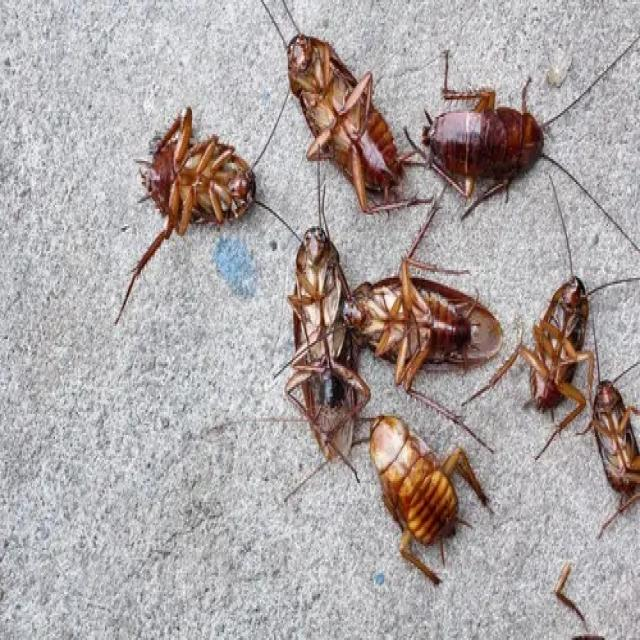Cockroach: (332, 243, 522, 428), (268, 4, 414, 226), (352, 408, 490, 592), (398, 69, 589, 195), (274, 218, 365, 470), (125, 101, 268, 256), (509, 232, 596, 448), (585, 362, 640, 523)
